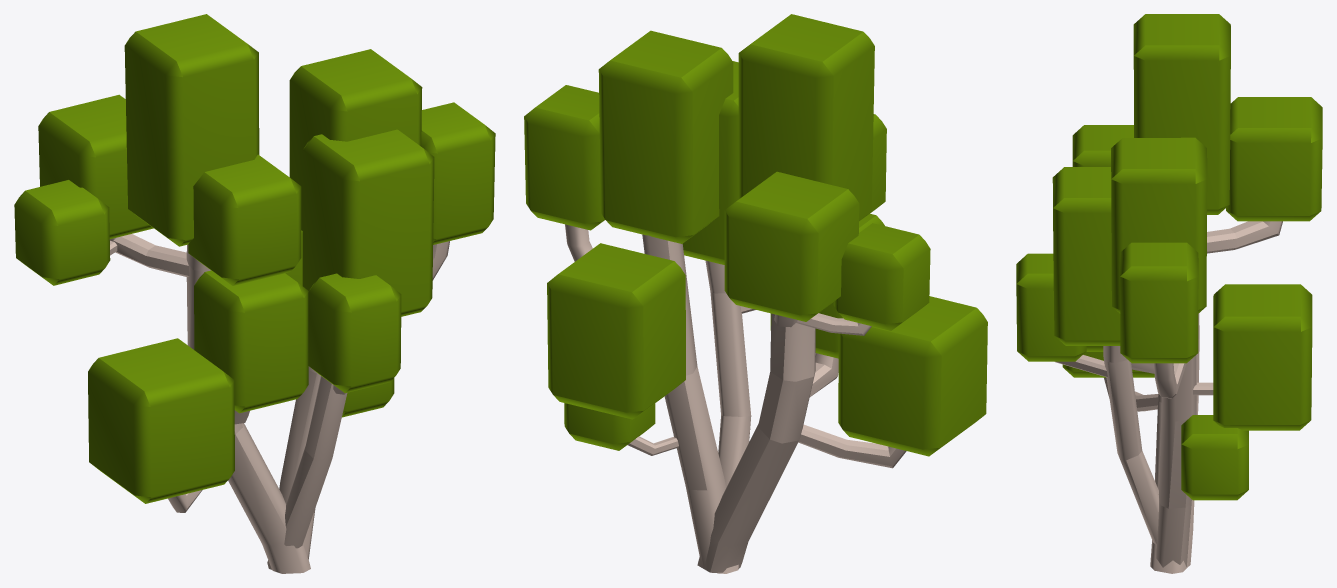
File: SM_Pararie_Brirch_02_Wind_anim.fbx
3 views of the same model, side by side, from view 1: azimuth 30°, elevation 25°; view 2: azimuth 150°, elevation 25°; view 3: azimuth 270°, elevation 25° (orthographic). The views are drawn at different scales.
Parts seen in each view (by area): view 1: SM_Pararie_Brirch_02; view 2: SM_Pararie_Brirch_02; view 3: SM_Pararie_Brirch_02.
Boxes of the visible parts, left/top/right/bottom form: SM_Pararie_Brirch_02: left=14, top=14, right=495, bottom=573; SM_Pararie_Brirch_02: left=524, top=14, right=987, bottom=573; SM_Pararie_Brirch_02: left=1016, top=14, right=1322, bottom=573.
Bounding box in the file's own units: 278 × 351 × 197.
